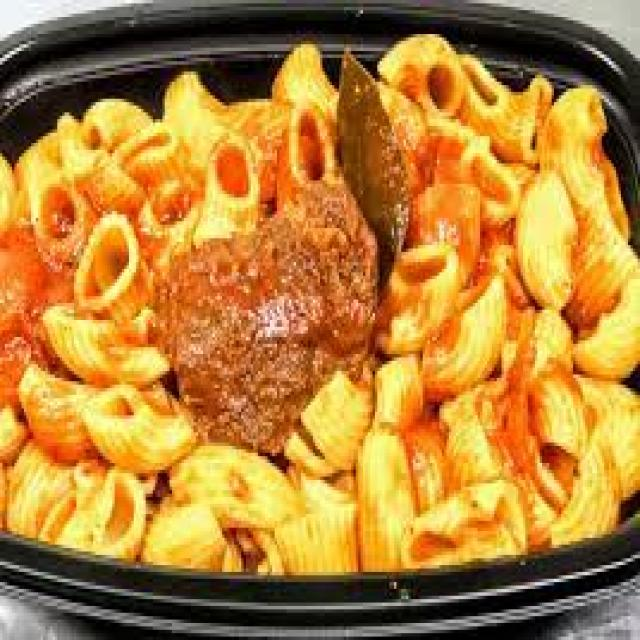Pasta: (14, 18, 640, 598)
